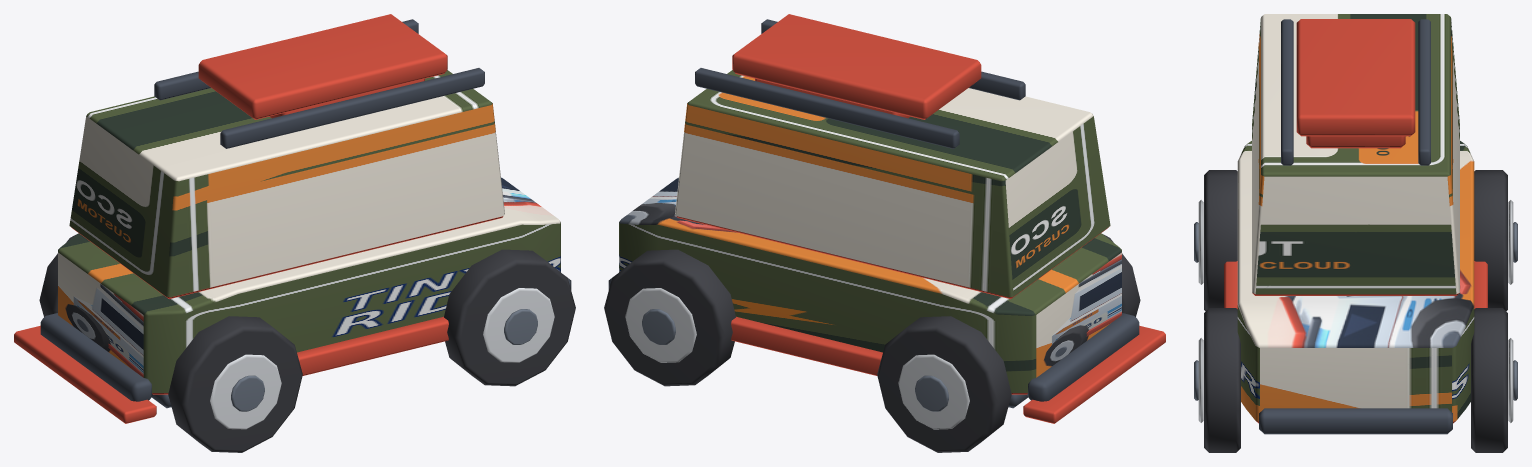
3 renders of one model, left to right at view 1: azimuth 30°, elevation 25°; view 2: azimuth 150°, elevation 25°; view 3: azimuth 270°, elevation 25°, orthographic. The views are drawn at different scales.
Visible parts, largest first — view 1: DP-05_cabin, DP-05_connected_shell, utility load, Tire, Tire.002, utility rail, custom side guard, custom chin, front bumper, Rim, Rim.002, utility rail.001 (+3 smaller); view 2: DP-05_cabin, DP-05_connected_shell, utility load, Tire.001, Tire.003, utility rail.001, custom side guard.001, custom chin, front bumper, Rim.001, Rim.003, utility rail (+3 smaller); view 3: DP-05_cabin, DP-05_connected_shell, utility load, Tire.002, Tire.003, rear bumper, Tire, Tire.001, utility rail, utility rail.001, custom equipment, custom side guard (+5 smaller).
Part boxes in pixels (box(x1,y1,x2,y2)): DP-05_cabin: box(69, 70, 504, 298); DP-05_connected_shell: box(58, 177, 560, 394); utility load: box(198, 14, 447, 119); Tire: box(168, 316, 302, 452); Tire.002: box(444, 249, 575, 386); utility rail: box(220, 68, 484, 148); custom side guard: box(297, 316, 448, 375); custom chin: box(14, 325, 156, 423); front bumper: box(40, 313, 152, 401); Rim: box(210, 354, 281, 429); Rim.002: box(483, 288, 554, 362); utility rail.001: box(154, 19, 418, 100); DP-05_cabin: box(675, 70, 1110, 298); DP-05_connected_shell: box(619, 177, 1121, 394); utility load: box(732, 14, 981, 119); Tire.001: box(877, 316, 1011, 452); Tire.003: box(604, 249, 735, 386); utility rail.001: box(695, 68, 959, 148); custom side guard.001: box(731, 316, 882, 375); custom chin: box(1023, 325, 1165, 423); front bumper: box(1027, 313, 1139, 401); Rim.001: box(898, 354, 969, 429); Rim.003: box(625, 288, 696, 362); utility rail: box(761, 19, 1025, 100); DP-05_cabin: box(1252, 14, 1459, 295); DP-05_connected_shell: box(1237, 141, 1474, 423); utility load: box(1296, 19, 1415, 136); Tire.002: box(1204, 308, 1240, 452); Tire.003: box(1471, 308, 1507, 452); rear bumper: box(1259, 408, 1452, 434); Tire: box(1204, 170, 1237, 311); Tire.001: box(1474, 170, 1507, 311); utility rail: box(1281, 19, 1293, 165); utility rail.001: box(1418, 19, 1430, 165); custom equipment: box(1306, 136, 1405, 148); custom side guard: box(1224, 261, 1237, 308).
Bounding box in the file's own units: 384 × 247 × 227.
